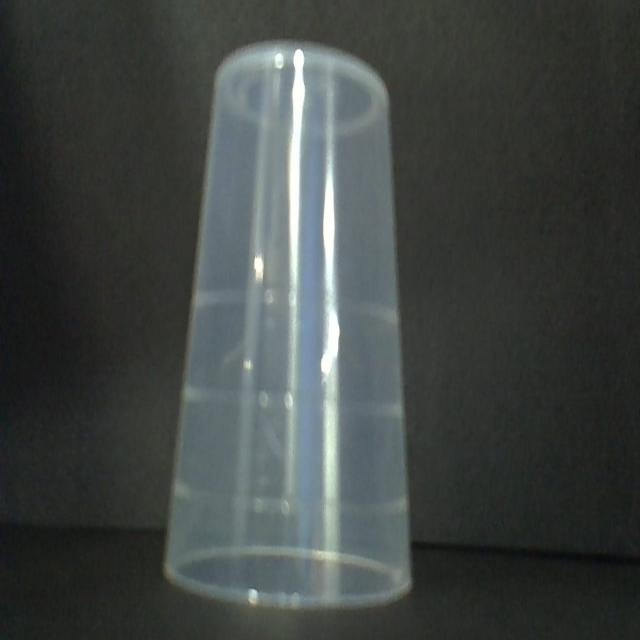cup: (161, 31, 420, 613)
